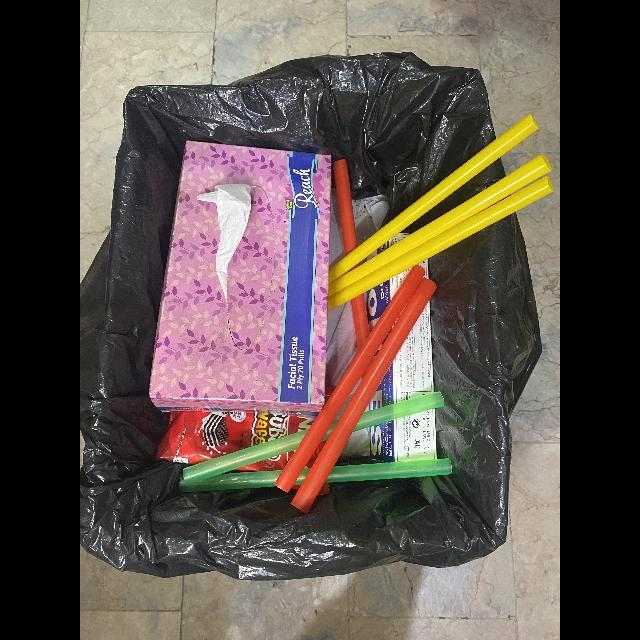cardboard: (153, 141, 336, 413), (363, 233, 436, 462)
food_wrapper: (159, 410, 317, 466)
